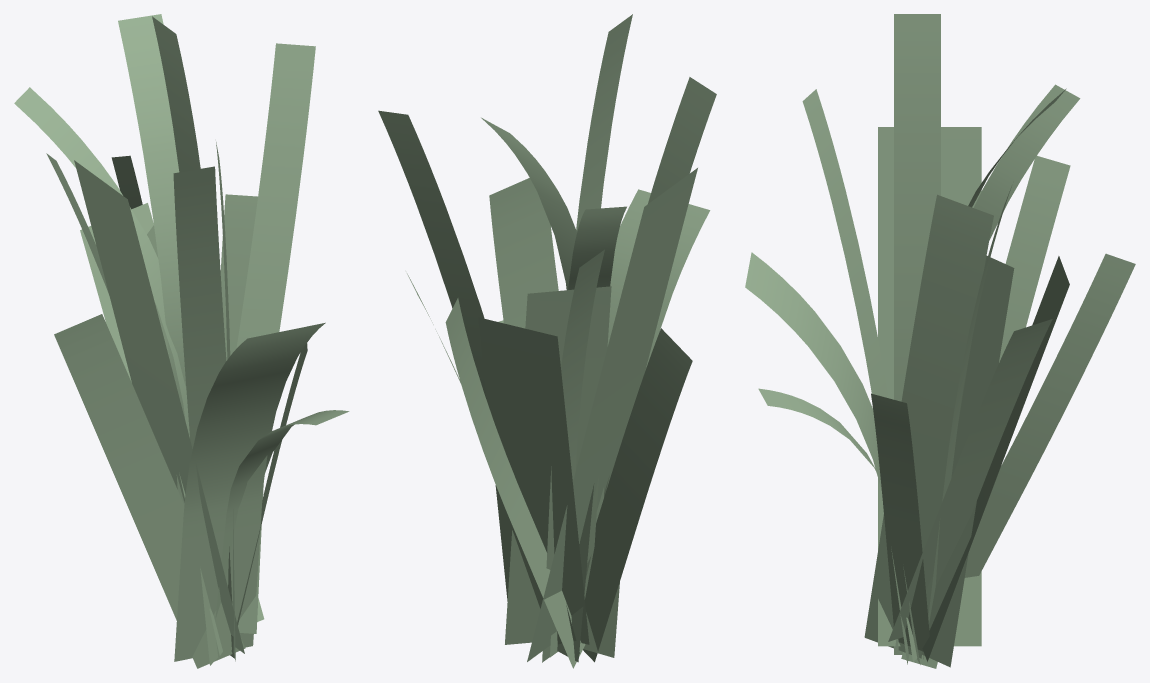
The model's file is SM_ocean_seaPlant_04.fbx.
3 views of the same model, side by side, from view 1: azimuth 30°, elevation 25°; view 2: azimuth 150°, elevation 25°; view 3: azimuth 270°, elevation 25° (orthographic). The views are drawn at different scales.
Parts seen in each view (by area): view 1: SM_ocean_seaPlant_04_LOD0; view 2: SM_ocean_seaPlant_04_LOD0; view 3: SM_ocean_seaPlant_04_LOD0.
Part boxes in pixels (x1=…): SM_ocean_seaPlant_04_LOD0: x1=14, y1=14, x2=349, y2=668; SM_ocean_seaPlant_04_LOD0: x1=378, y1=14, x2=716, y2=668; SM_ocean_seaPlant_04_LOD0: x1=745, y1=14, x2=1135, y2=668.
Size of what is drawn, in the model's own units: 36.61 by 44.79 by 78.75.
